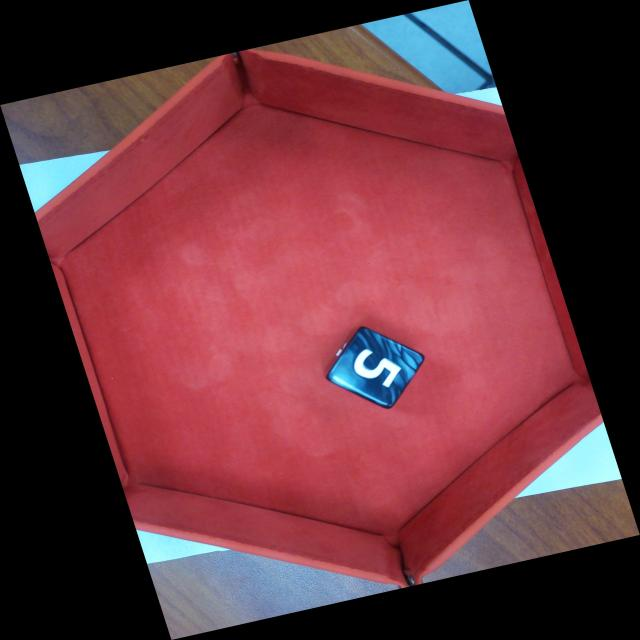dice: (323, 324, 427, 411)
